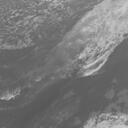cyclone: (47, 32, 103, 82)
